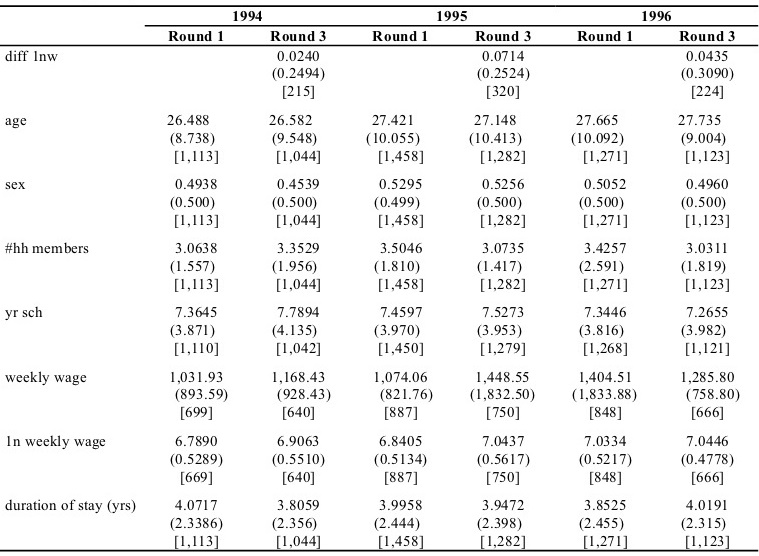column: (4, 1, 136, 556), (364, 1, 433, 556), (468, 1, 537, 556), (571, 1, 638, 556), (268, 1, 332, 556), (678, 1, 741, 554), (166, 1, 228, 556), (435, 1, 468, 556), (640, 1, 673, 556), (233, 1, 262, 556)
row: (1, 66, 758, 82), (1, 405, 759, 420), (1, 534, 759, 549), (1, 112, 758, 127), (1, 150, 758, 165), (1, 341, 758, 356), (1, 387, 758, 402), (1, 84, 759, 98), (1, 131, 759, 145), (1, 278, 759, 292), (1, 498, 759, 512), (1, 214, 758, 228), (1, 370, 758, 384), (1, 452, 758, 466), (1, 471, 758, 485), (1, 517, 758, 531), (1, 305, 757, 319), (1, 323, 759, 336), (1, 434, 759, 447), (1, 29, 758, 42), (1, 50, 758, 63), (1, 178, 758, 191), (1, 196, 759, 208), (1, 242, 759, 254), (1, 10, 758, 22), (1, 260, 758, 272)
